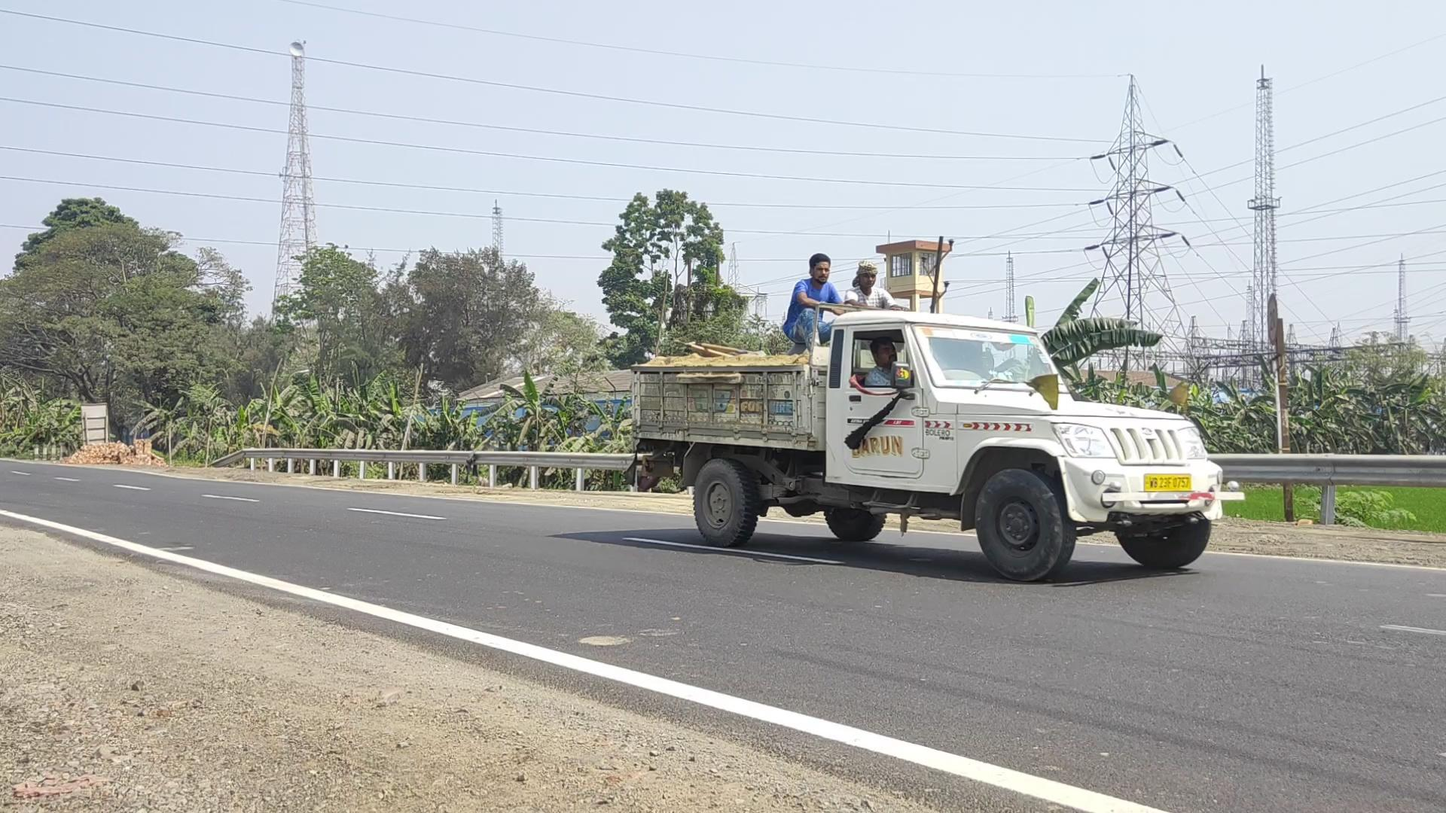van: (632, 254, 1245, 583)
